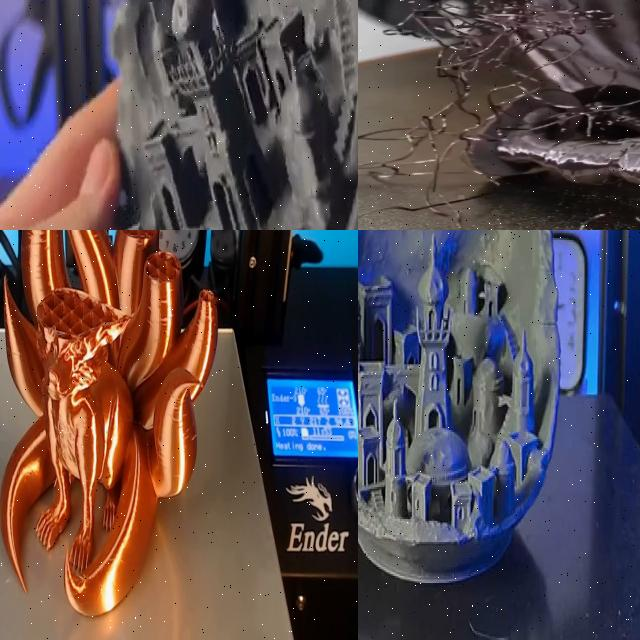spaghetti: (358, 0, 640, 230)
